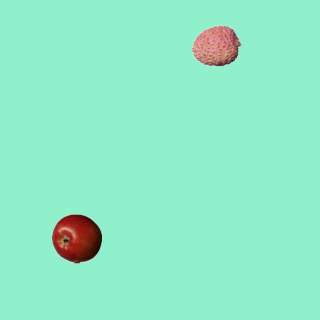Apple Braeburn: (51, 213, 101, 263)
Lychee: (191, 20, 241, 70)
